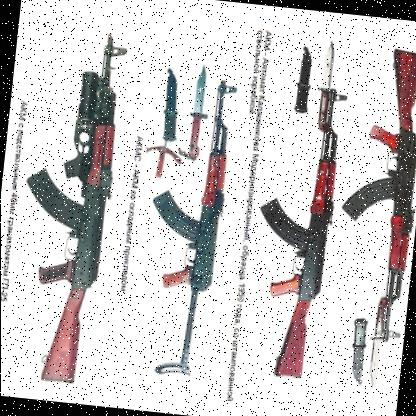rifle: (2, 21, 138, 387), (237, 73, 345, 387), (132, 71, 241, 381), (319, 39, 416, 373)
